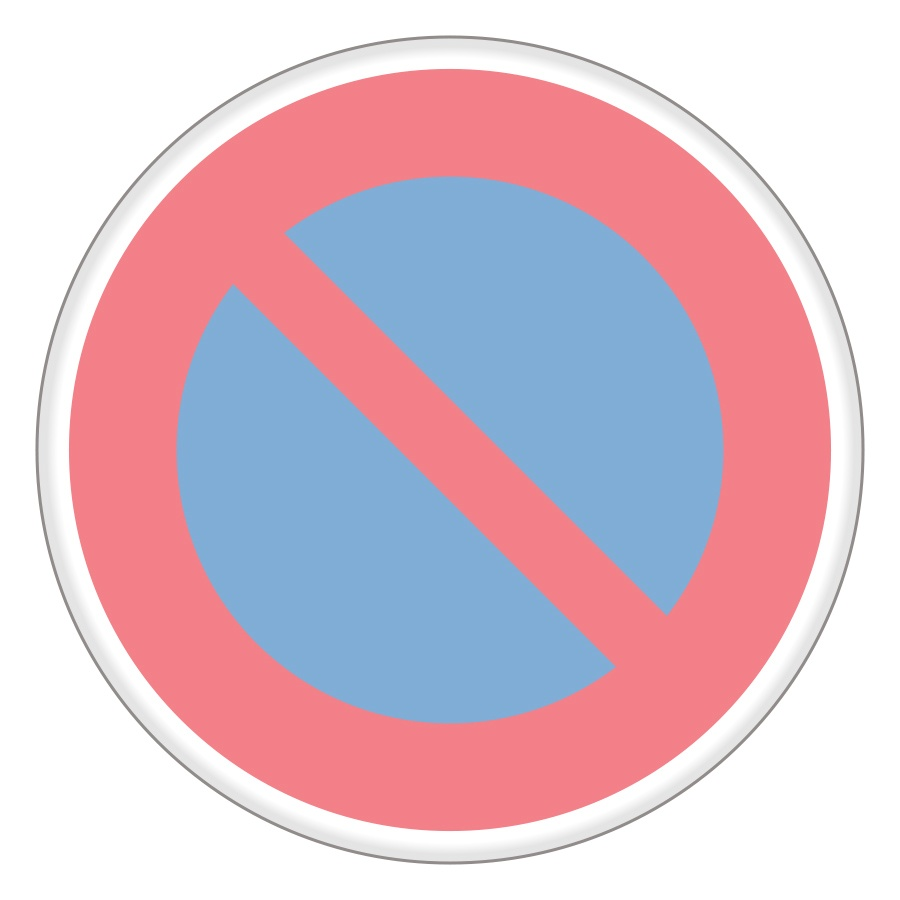Prohibition_sign: (26, 23, 879, 875)
